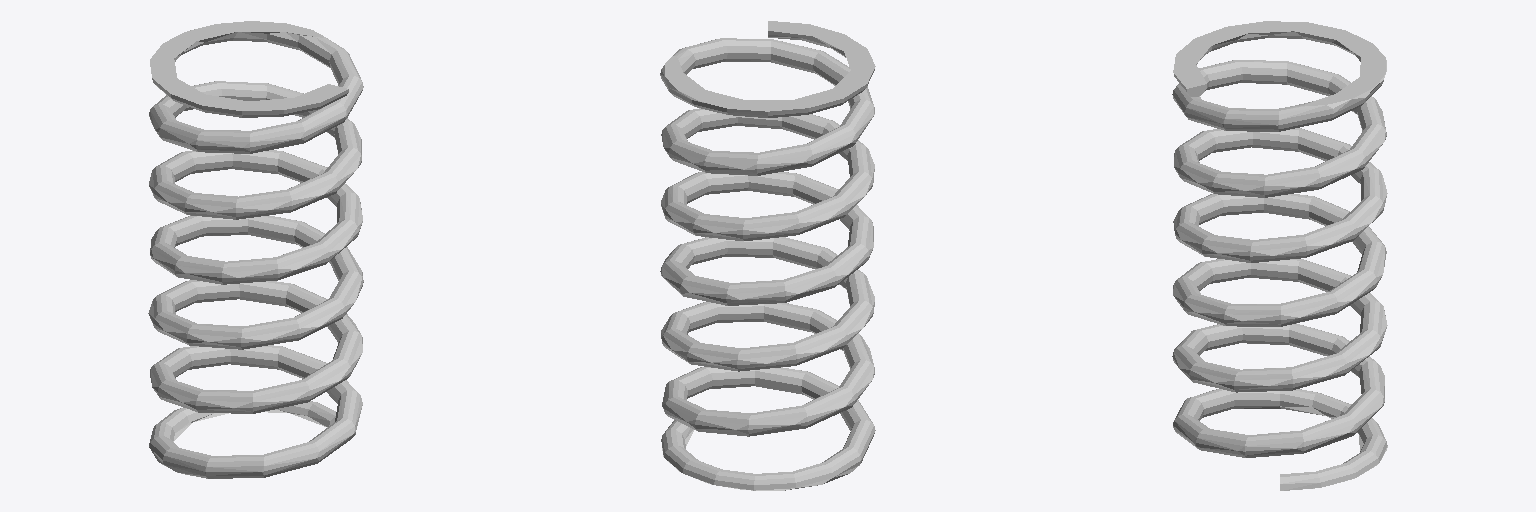
File: 405. Пружина стопорного шарика (нагрузка).obj
The picture shows the model from 3 angles: view 1: azimuth 30°, elevation 25°; view 2: azimuth 150°, elevation 25°; view 3: azimuth 270°, elevation 25°; orthographic projection.
Visible parts, largest first — view 1: Твердое тело1; view 2: Твердое тело1; view 3: Твердое тело1.
Boxes of the visible parts, <box> form: Твердое тело1: <box>148,21,363,478</box>; Твердое тело1: <box>660,21,875,490</box>; Твердое тело1: <box>1172,21,1387,490</box>.
Bounding box in the file's own units: 9 × 17.5 × 9.